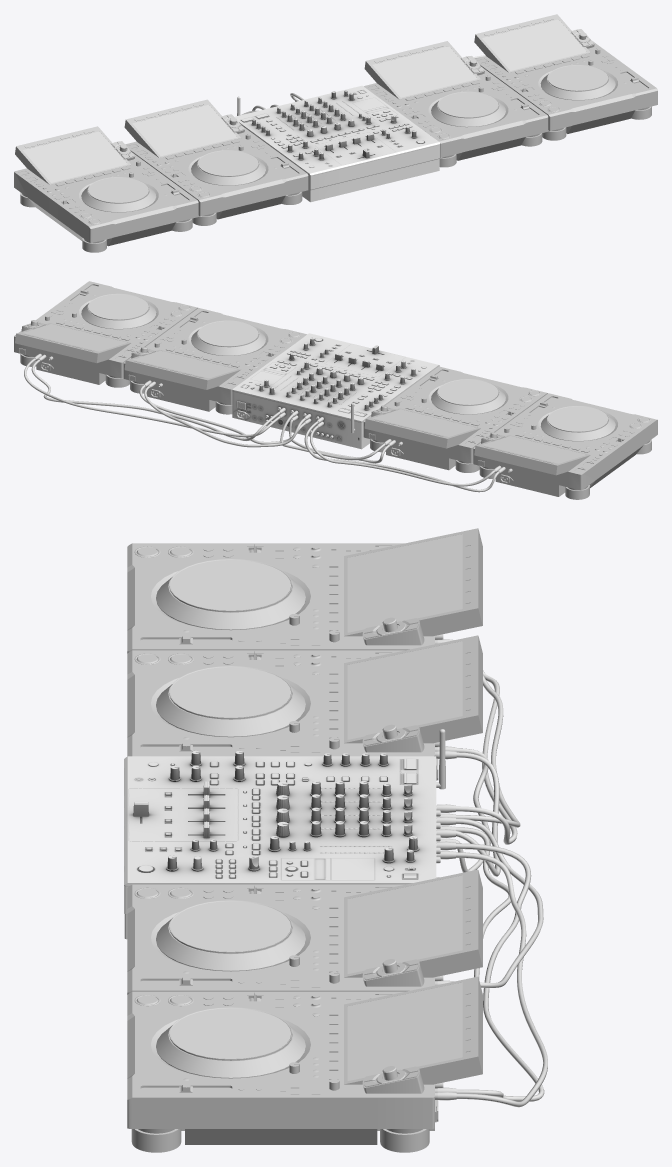
File: Pack4.fbx
3 views of the same model, one above another, from view 1: azimuth 30°, elevation 25°; view 2: azimuth 150°, elevation 25°; view 3: azimuth 270°, elevation 25° (orthographic). The views are drawn at different scales.
Parts seen in each view (by area): view 1: Pack4, Mixer; view 2: Pack4, Mixer, Cables, Connectors; view 3: Pack4, Mixer, Cables, Connectors.
Part boxes in pixels (<box>): Pack4: <box>14,14,657,252</box>; Mixer: <box>234,85,439,202</box>; Pack4: <box>14,281,657,499</box>; Mixer: <box>232,333,439,449</box>; Cables: <box>24,358,499,492</box>; Connectors: <box>34,354,504,473</box>; Pack4: <box>127,528,482,1152</box>; Mixer: <box>124,750,440,939</box>; Cables: <box>456,670,547,1107</box>; Connectors: <box>437,639,456,1100</box>.
Bounding box in the file's own units: 171 × 13.5 × 55.36.
